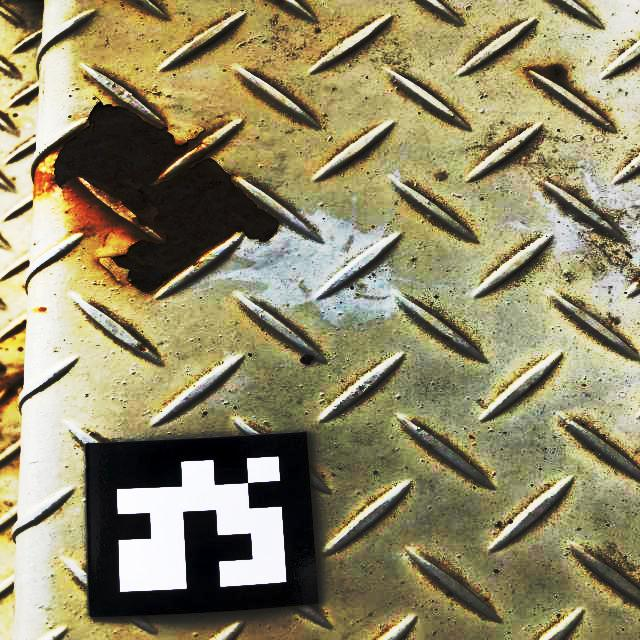Corrosion: (54, 103, 280, 293)
